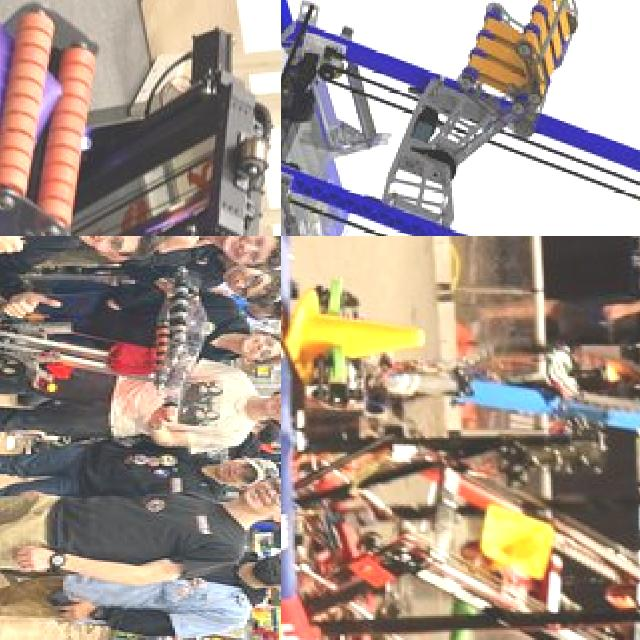FRC-Robots: (281, 236, 640, 582), (281, 0, 640, 236), (0, 0, 281, 236), (281, 495, 640, 640), (0, 236, 219, 449)
